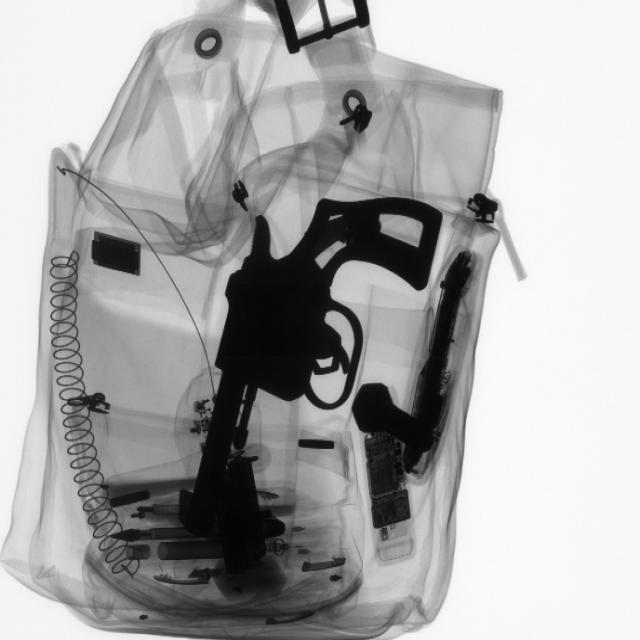GUN: (192, 192, 451, 497)
